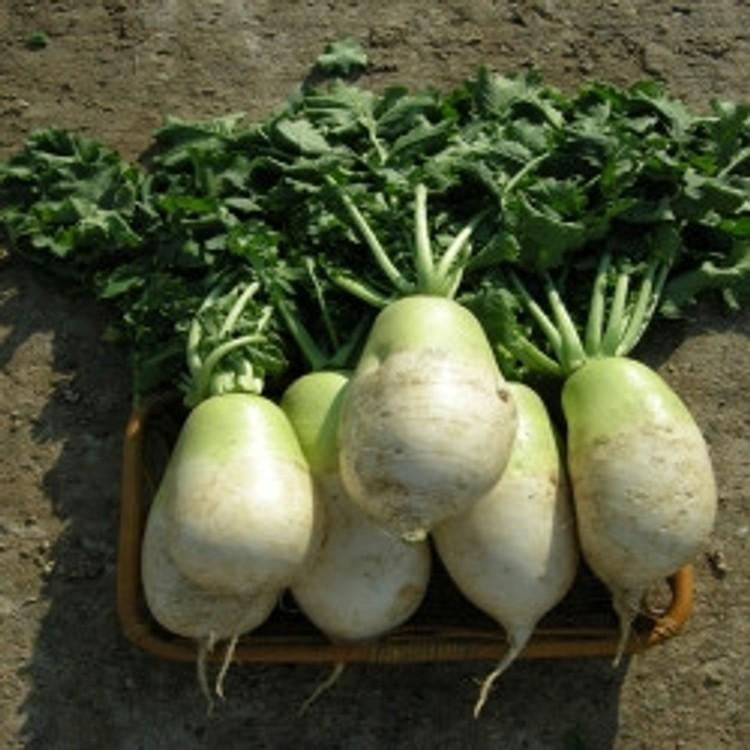radish: (394, 341, 612, 642), (177, 452, 381, 710), (653, 400, 750, 714)
